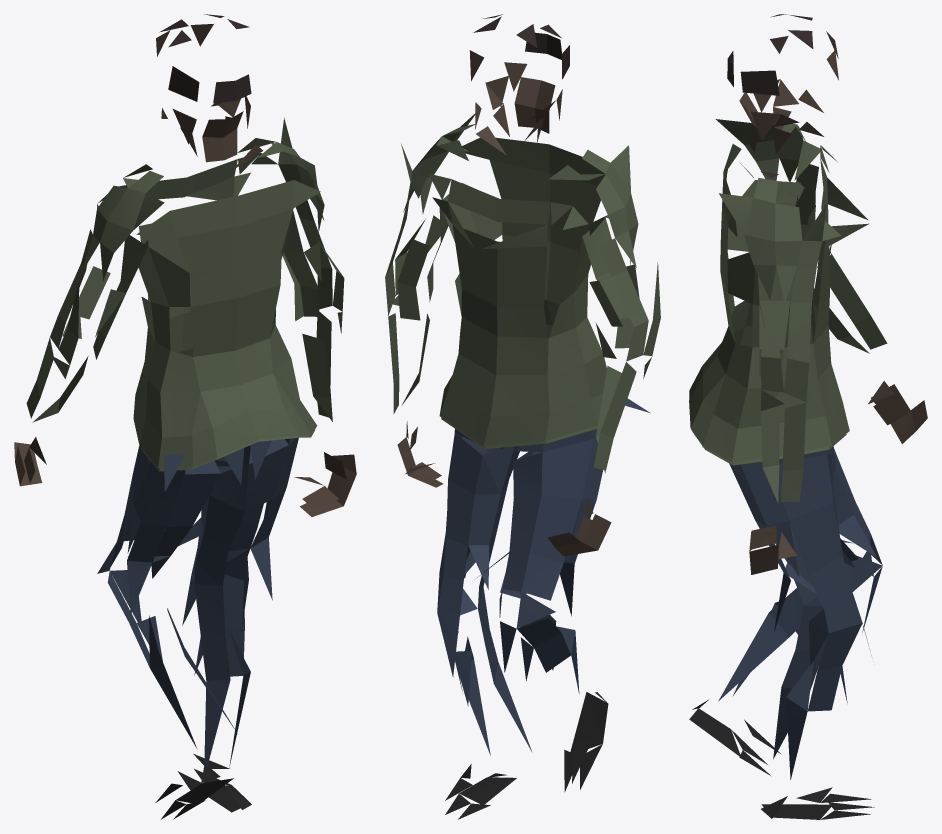
The model's file is personfar_1_w0.fbx.
The picture shows the model from 3 angles, left to right: view 1: azimuth 30°, elevation 25°; view 2: azimuth 150°, elevation 25°; view 3: azimuth 270°, elevation 25°; orthographic projection.
Visible parts, largest first — view 1: BaseHuman; view 2: BaseHuman; view 3: BaseHuman.
Part boxes in pixels (x1,y1,x2,y2): BaseHuman: [14, 14, 356, 819]; BaseHuman: [385, 14, 660, 819]; BaseHuman: [689, 14, 927, 819].
Bounding box in the file's own units: 0.3563 × 0.9756 × 0.2714.
